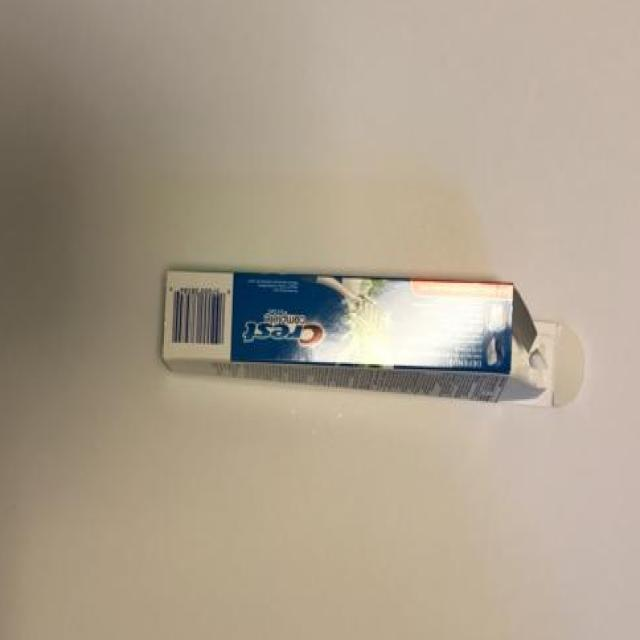kertas: (160, 269, 584, 408)
